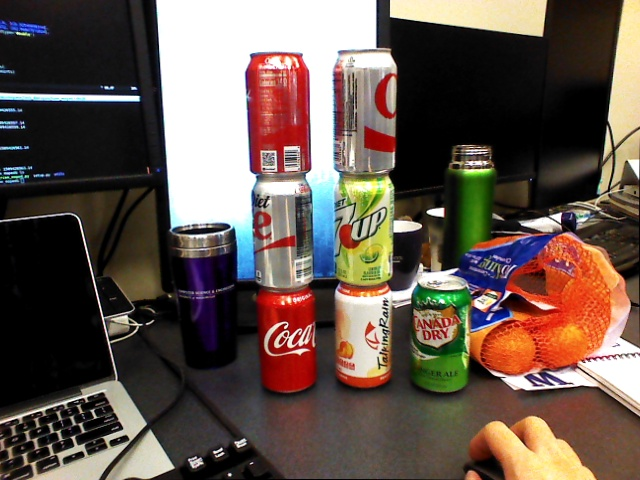can_coke: (245, 51, 313, 177), (255, 287, 318, 394)
can_diet_coke: (333, 48, 395, 174), (250, 175, 315, 289)
can_diet_seven_up: (333, 174, 393, 284)
can_ginger_ale: (411, 273, 470, 394)
can_talking_rain_peach_nectarine: (335, 284, 392, 390)
